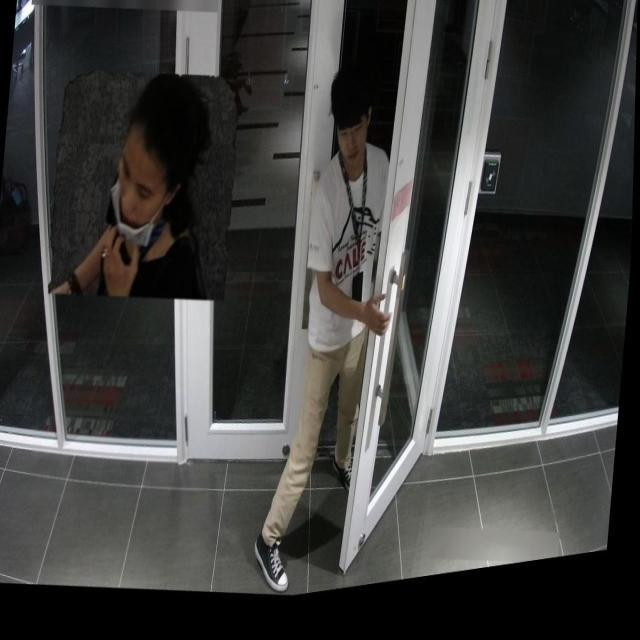hairnet: (105, 146, 161, 256)
